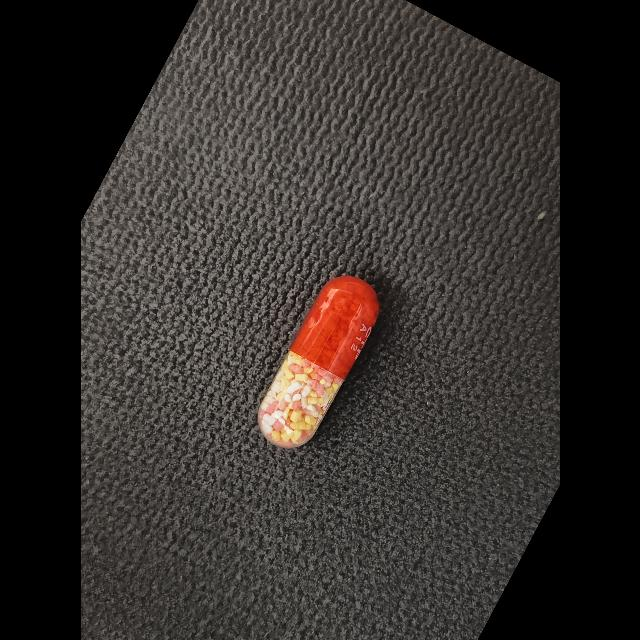Intact Capsule: (257, 276, 379, 448)
